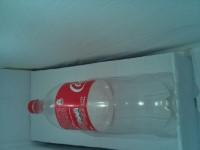BIODEGRADABLE: (14, 19, 102, 135)
